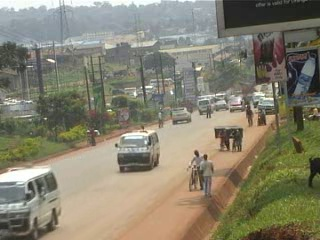Car: (169, 106, 194, 126), (211, 100, 231, 112), (229, 96, 244, 112)
